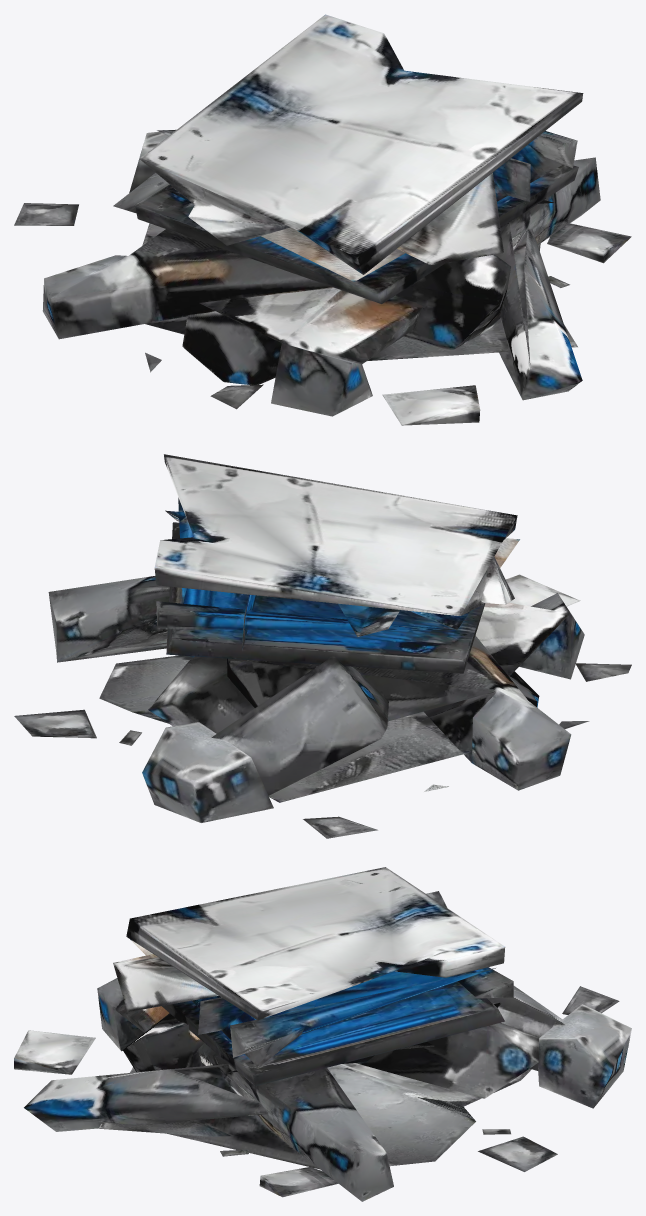
3 renders of one model, top to bottom at view 1: azimuth 30°, elevation 25°; view 2: azimuth 150°, elevation 25°; view 3: azimuth 270°, elevation 25°, orthographic. The views are drawn at different scales.
Visible parts, largest first — view 1: mesh_node; view 2: mesh_node; view 3: mesh_node.
Boxes of the visible parts, x1=… form: mesh_node: x1=14, y1=14, x2=631, y2=425; mesh_node: x1=14, y1=454, x2=631, y2=838; mesh_node: x1=14, y1=867, x2=631, y2=1201.
Size of the model in its own units: 0.9375 by 0.336 by 1.
Materials: 1 (1 with a texture image).
